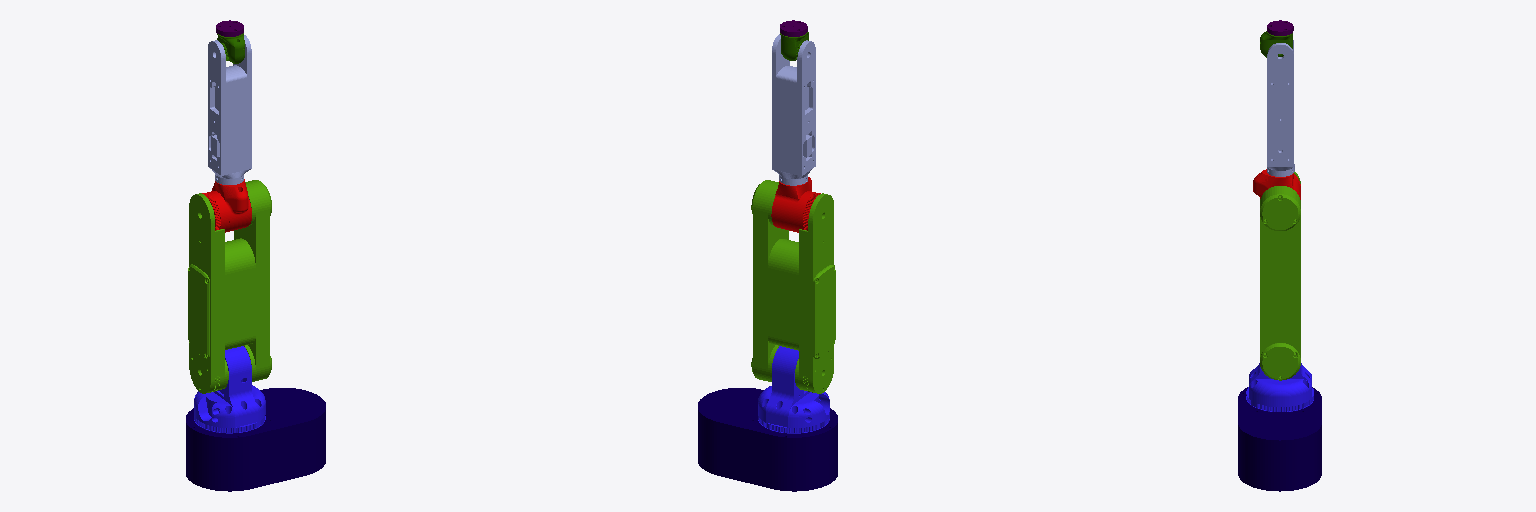
robot.urdf — ers6:
<robot name="ers6">
  <link name="world"></link>
  <joint name="base_joint" type="fixed">
    <parent link="world" />
    <child link="base_link" />
    <origin xyz="0 0 0" rpy="0 0 0" />
  </joint>
  <link name="base_link">
    <visual>
      <origin xyz="0 0 0" rpy="0 0 0" />
      <geometry>
        <mesh filename="package://ers6_description/meshes/Base.stl" scale="0.001 0.001 0.001" />
      </geometry>
      <material name="base_link-material">
        <color rgba="0.07618538147321911 0.00030352698352941176 0.36130677977297226 1" />
      </material>
    </visual>
    <collision>
      <origin xyz="0 0 0" rpy="0 0 0" />
      <geometry>
        <mesh filename="package://ers6_description/meshes/Base.stl" scale="0.001 0.001 0.001" />
      </geometry>
    </collision>
    <inertial>
      <origin xyz="0 0 0" rpy="0 0 0" />
      <mass value="1" />
      <inertia ixx="0.4" ixy="0" ixz="0" iyy="0.4" iyz="0" izz="0.4" />
    </inertial>
  </link>
  <joint name="base_link_to_a5" type="revolute">
    <parent link="base_link" />
    <child link="a5" />
    <origin xyz="0.000060582689466064966 0.0004769508252860928 0.0732228209466252" rpy="0 0 0" />
    <axis xyz="0 0 1"/>
    <limit effort="1000.0" lower="-1" upper="1" velocity="0.5"/>  </joint>
  <link name="a5">
    <visual>
      <origin xyz="0.00024149299047160257 -0.00006662961777630398 -0.003721416044104253" rpy="0 0 0" />
      <geometry>
        <mesh filename="package://ers6_description/meshes/a5.stl" scale="0.001 0.001 0.001" />
      </geometry>
      <material name="a5-material">
        <color rgba="0.22322795730611386 0.14412847084818123 1 1" />
      </material>
    </visual>
    <collision>
      <origin xyz="0.00024149299047160257 -0.00006662961777630398 -0.003721416044104253" rpy="0 0 0" />
      <geometry>
        <mesh filename="package://ers6_description/meshes/a5.stl" scale="0.001 0.001 0.001" />
      </geometry>
    </collision>
    <inertial>
      <origin xyz="0.00024149299047160257 -0.00006662961777630398 -0.003721416044104253" rpy="0 0 0" />
      <mass value="1" />
      <inertia ixx="0.4" ixy="0" ixz="0" iyy="0.4" iyz="0" izz="0.4" />
    </inertial>
  </link>
  <joint name="a5_to_a4" type="revolute">
    <parent link="a5" />
    <child link="a4" />
    <origin xyz="0.16917411790950931 0.00002629570427786776 0.06198128719208244" rpy="0 0 1.5707963267948963" />
    <axis xyz="2.2204424853991772e-16 -0.9999983949841352 -0.001791655422669125"/>
    <limit effort="1000.0" lower="-1" upper="1" velocity="0.5"/>  </joint>
  <link name="a4">
    <visual>
      <origin xyz="0 0 0" rpy="0 0 0" />
      <geometry>
        <mesh filename="package://ers6_description/meshes/a4.stl" scale="0.001 0.001 0.001" />
      </geometry>
      <material name="a4-material">
        <color rgba="0.35640014413537763 0.6583748172725346 0.07421356837213867 1" />
      </material>
    </visual>
    <collision>
      <origin xyz="0 0 0" rpy="0 0 0" />
      <geometry>
        <mesh filename="package://ers6_description/meshes/a4.stl" scale="0.001 0.001 0.001" />
      </geometry>
    </collision>
    <inertial>
      <origin xyz="0 0 0" rpy="0 0 0" />
      <mass value="1" />
      <inertia ixx="0.4" ixy="0" ixz="0" iyy="0.4" iyz="0" izz="0.4" />
    </inertial>
  </link>
  <joint name="a4_to_a3" type="revolute">
    <parent link="a4" />
    <child link="a3" />
    <origin xyz="0 0.1685 0.20" rpy="0 0 3.141592653589793" />
    <axis xyz="2.2204349637747346e-16 -0.9999950075456312 0.0031598866772435397"/>
    <limit effort="1000.0" lower="-1" upper="1" velocity="0.5"/>  </joint>
  <link name="a3">
    <visual>
      <origin xyz="7.399065680067473e-20 0 0.0371754409751881" rpy="0 0 0" />
      <geometry>
        <mesh filename="package://ers6_description/meshes/a3.stl" scale="0.001 0.001 0.001" />
      </geometry>
      <material name="a3-material">
        <color rgba="0.85499260812105 0.04970656597728775 0.04970656597728775 1" />
      </material>
    </visual>
    <collision>
      <origin xyz="7.399065680067473e-20 0 0.0371754409751881" rpy="0 0 0" />
      <geometry>
        <mesh filename="package://ers6_description/meshes/a3.stl" scale="0.001 0.001 0.001" />
      </geometry>
    </collision>
    <inertial>
      <origin xyz="7.399065680067473e-20 0 0.0371754409751881" rpy="0 0 0" />
      <mass value="1" />
      <inertia ixx="0.4" ixy="0" ixz="0" iyy="0.4" iyz="0" izz="0.4" />
    </inertial>
  </link>
  <joint name="a3_to_a2" type="revolute">
    <parent link="a3" />
    <child link="a2" />
    <origin xyz="0.0005014862197909482 -0.0005754625084648142 0.03310193380359011" rpy="0 0 0" />
    <axis xyz="0 0 1"/>
    <limit effort="1000.0" lower="-1" upper="1" velocity="0.5"/>  </joint>
  <link name="a2">
    <visual>
      <origin xyz="-0.015941182779098312 -0.03442337337371612 0" rpy="0 0 0" />
      <geometry>
        <mesh filename="package://ers6_description/meshes/a2.stl" scale="0.001 0.001 0.001" />
      </geometry>
      <material name="a2-material">
        <color rgba="0.6375968739867731 0.6724431569510133 0.8796223968851662 1" />
      </material>
    </visual>
    <collision>
      <origin xyz="-0.015941182779098312 -0.03442337337371612 0" rpy="0 0 0" />
      <geometry>
        <mesh filename="package://ers6_description/meshes/a2.stl" scale="0.001 0.001 0.001" />
      </geometry>
    </collision>
    <inertial>
      <origin xyz="-0.015941182779098312 -0.03442337337371612 0" rpy="0 0 0" />
      <mass value="1" />
      <inertia ixx="0.4" ixy="0" ixz="0" iyy="0.4" iyz="0" izz="0.4" />
    </inertial>
  </link>
  <joint name="a2_to_a1" type="revolute">
    <parent link="a2" />
    <child link="a1" />
    <origin xyz="-0.0004211425734971276 0.00007487255719667088 0.16818515224205283" rpy="0 0 3.141592653589793" />
    <axis xyz="-4.4408551769028203e-16 0.999991685995294 0.004077737153082017"/>
    <limit effort="1000.0" lower="-1" upper="1" velocity="0.5"/>  </joint>
  <link name="a1">
    <visual>
      <origin xyz="-0.00042114257349712755 -0.0005282776510994319 0.024270987241524544" rpy="0 0 0" />
      <geometry>
        <mesh filename="package://ers6_description/meshes/a1.stl" scale="0.001 0.001 0.001" />
      </geometry>
      <material name="a1-material">
        <color rgba="0.19806931954941637 0.4286904966038916 0.015208514418949472 1" />
      </material>
    </visual>
    <collision>
      <origin xyz="-0.00042114257349712755 -0.0005282776510994319 0.024270987241524544" rpy="0 0 0" />
      <geometry>
        <mesh filename="package://ers6_description/meshes/a1.stl" scale="0.001 0.001 0.001" />
      </geometry>
    </collision>
    <inertial>
      <origin xyz="-0.00042114257349712755 -0.0005282776510994319 0.024270987241524544" rpy="0 0 0" />
      <mass value="1" />
      <inertia ixx="0.4" ixy="0" ixz="0" iyy="0.4" iyz="0" izz="0.4" />
    </inertial>
  </link>
  <joint name="a1_to_a0" type="revolute">
    <parent link="a1" />
    <child link="a0" />
    <origin xyz="1.6263032587282567e-19 -0.0003501459947950203 0.02786555015025216" rpy="0 0 -1.5707963267948961" />
    <axis xyz="0 0 1"/>
    <limit effort="1000.0" lower="-1" upper="1" velocity="0.5"/>  </joint>
  <link name="a0">
    <visual>
      <origin xyz="0 0 0" rpy="0 0 0" />
      <geometry>
        <mesh filename="package://ers6_description/meshes/a0.stl" scale="0.001 0.001 0.001" />
      </geometry>
      <material name="a0-material">
        <color rgba="0.3094689228067428 0.0015176349176470587 0.3515325994898463 1" />
      </material>
    </visual>
    <collision>
      <origin xyz="0 0 0" rpy="0 0 0" />
      <geometry>
        <mesh filename="package://ers6_description/meshes/a0.stl" scale="0.001 0.001 0.001" />
      </geometry>
    </collision>
    <inertial>
      <origin xyz="0 0 0" rpy="0 0 0" />
      <mass value="1" />
      <inertia ixx="0.4" ixy="0" ixz="0" iyy="0.4" iyz="0" izz="0.4" />
    </inertial>
  </link>

</robot>

--- What the picture shows (computed from the rendered views, not written in the file) ---
3 views of the same robot in one strip: view 1: azimuth 30°, elevation 25°; view 2: azimuth 150°, elevation 25°; view 3: azimuth 270°, elevation 25° (orthographic).
Robot: ers6 — 8 links, 7 joints (6 revolute, 1 fixed); root link world; default pose: all joints at 0.
Links seen in each view (by area): view 1: a4, base_link, a2, a5, a3, a1; view 2: a4, base_link, a2, a5, a3; view 3: a4, base_link, a2, a5, a3.
Boxes of the visible links, x1,y1,x2,y2 form: a4: [188, 180, 271, 393]; base_link: [186, 388, 325, 491]; a2: [208, 35, 251, 184]; a5: [194, 346, 265, 433]; a3: [202, 179, 251, 232]; a1: [217, 33, 244, 63]; a4: [751, 180, 835, 393]; base_link: [698, 388, 837, 491]; a2: [772, 34, 815, 185]; a5: [758, 346, 829, 433]; a3: [771, 177, 820, 232]; a4: [1260, 172, 1300, 380]; base_link: [1238, 387, 1321, 491]; a2: [1267, 40, 1294, 176]; a5: [1246, 363, 1313, 411]; a3: [1253, 169, 1300, 199].
Size in the robot's own frame: 0.172 by 0.102 by 0.5682 metres.
Meshes: 7 distinct files referenced, 7 mesh visuals loaded (7 binary STL).